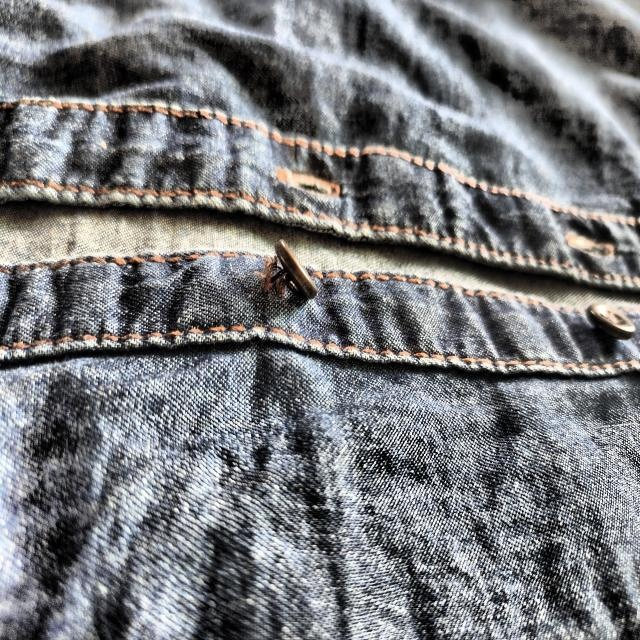Stitch: (237, 210, 336, 323)
